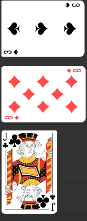3C: (64, 1, 82, 8)
JC: (49, 192, 57, 211), (2, 132, 10, 149)
